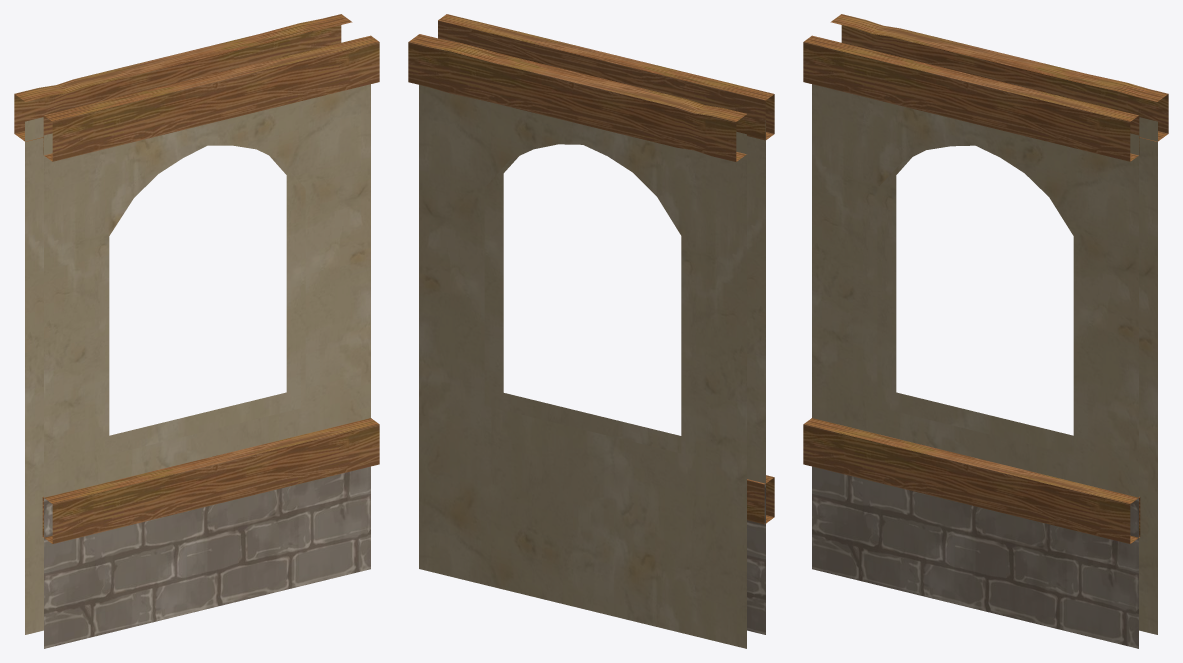
File: Wall_Plaster_Window_Wide_Round.glb
The picture shows the model from 3 angles, left to right: view 1: azimuth 30°, elevation 25°; view 2: azimuth 150°, elevation 25°; view 3: azimuth 330°, elevation 25°; orthographic projection.
Visible parts, largest first — view 1: Wall_Plaster_Window_Wide_Round; view 2: Wall_Plaster_Window_Wide_Round; view 3: Wall_Plaster_Window_Wide_Round.
Part boxes in pixels (left/top/right/bottom): Wall_Plaster_Window_Wide_Round: left=14, top=14, right=379, bottom=648; Wall_Plaster_Window_Wide_Round: left=408, top=14, right=774, bottom=648; Wall_Plaster_Window_Wide_Round: left=803, top=14, right=1168, bottom=648.
Bounding box in the file's own units: 2 × 3.12 × 0.4065.
3 materials, 3 textured.
